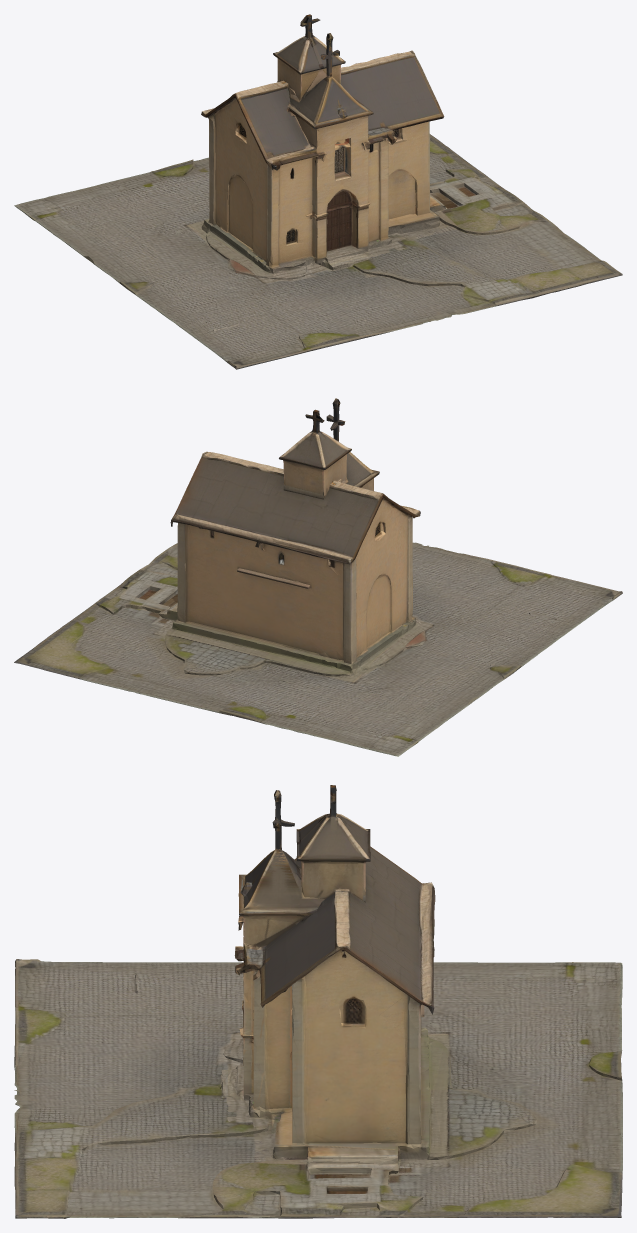
File: simple_monastery_for__0527190913_texture.fbx
The picture shows the model from 3 angles, top to bottom: view 1: azimuth 30°, elevation 25°; view 2: azimuth 150°, elevation 25°; view 3: azimuth 270°, elevation 25°; orthographic projection. The views are drawn at different scales.
Parts seen in each view (by area): view 1: temp; view 2: temp; view 3: temp.
Part boxes in pixels (x1,y1,x2,y2): temp: (14, 14, 622, 369); temp: (14, 398, 622, 756); temp: (14, 785, 622, 1218).
Size of the model in its own units: 199 by 110 by 200.
Materials: 1 (1 with a texture image).
